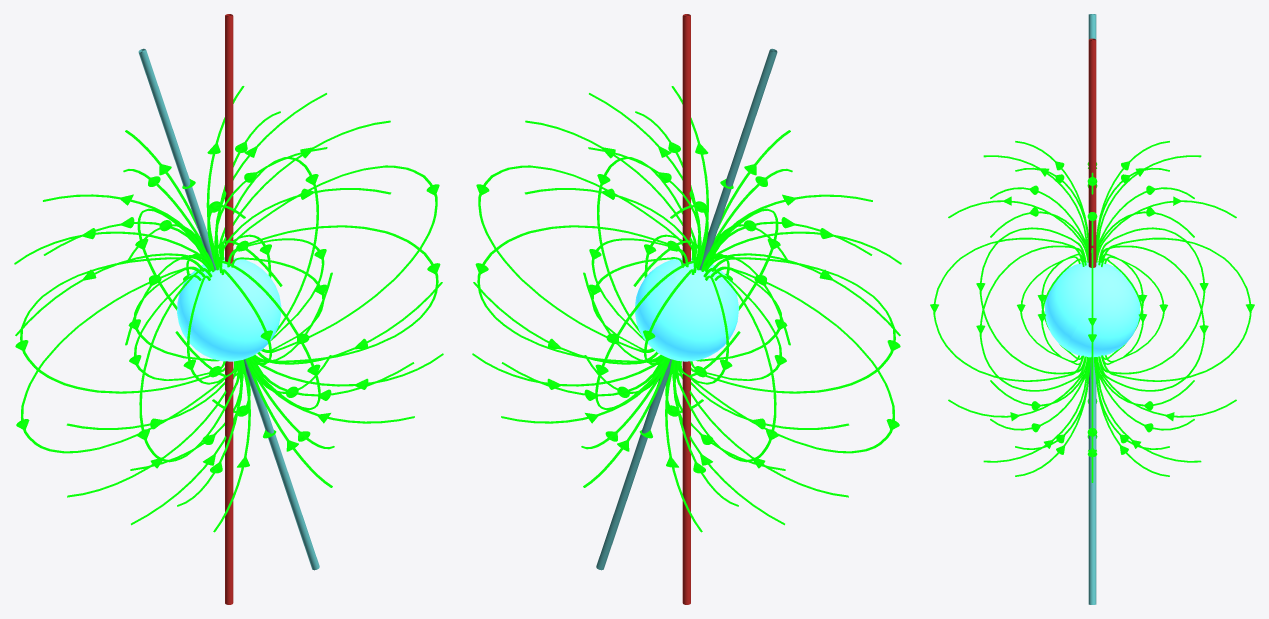
Rendered from modelo decimated.glb.
The picture shows the model from 3 angles, left to right: view 1: azimuth 30°, elevation 25°; view 2: azimuth 150°, elevation 25°; view 3: azimuth 270°, elevation 25°; orthographic projection. The views are drawn at different scales.
Parts seen in each view (by area): view 1: Texto-letra-campo-magnetico, Cylinder.001, Cylinder; view 2: Texto-letra-campo-magnetico, Cylinder.001, Cylinder; view 3: Texto-letra-campo-magnetico, Cylinder, Cylinder.001.
Part boxes in pixels (x1,y1,x2,y2): Texto-letra-campo-magnetico: (14,86,443,532); Cylinder.001: (225,14,233,604); Cylinder: (138,48,319,570); Texto-letra-campo-magnetico: (472,86,901,532); Cylinder.001: (682,14,690,604); Cylinder: (596,48,777,570); Texto-letra-campo-magnetico: (930,141,1254,482); Cylinder: (1088,14,1096,604); Cylinder.001: (1088,38,1096,267).
Bounding box in the file's own units: 8.56 × 11.23 × 6.14.
